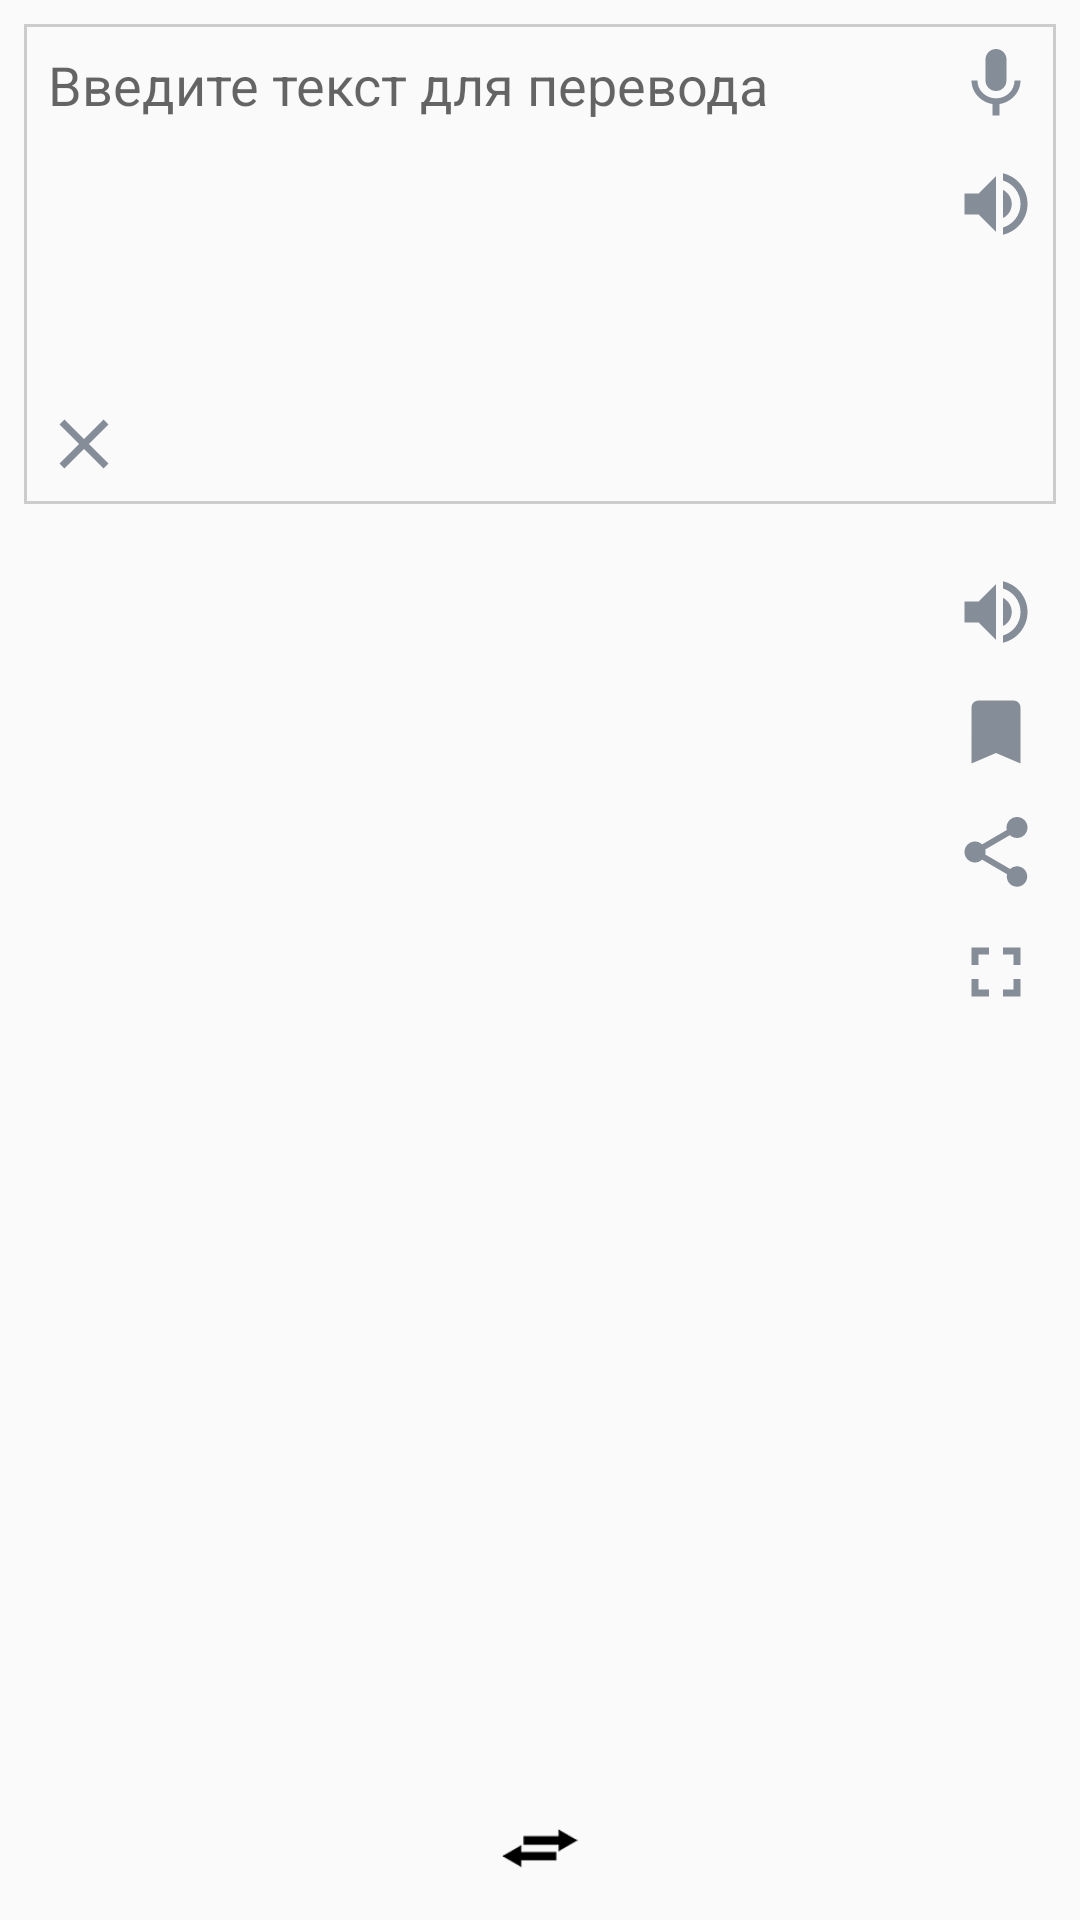

Named icons in this screenshot (1080px x 1920px) and their bounding boxes, (x1, y1, x2, y2):
bookmark: (971, 700, 1021, 763)
clear: (59, 419, 109, 469)
double arrow: (502, 1829, 578, 1867)
fullscreen: (971, 947, 1021, 997)
mic: (971, 49, 1021, 116)
share: (964, 817, 1028, 887)
speaker: (964, 173, 1028, 235), (964, 581, 1028, 643)
